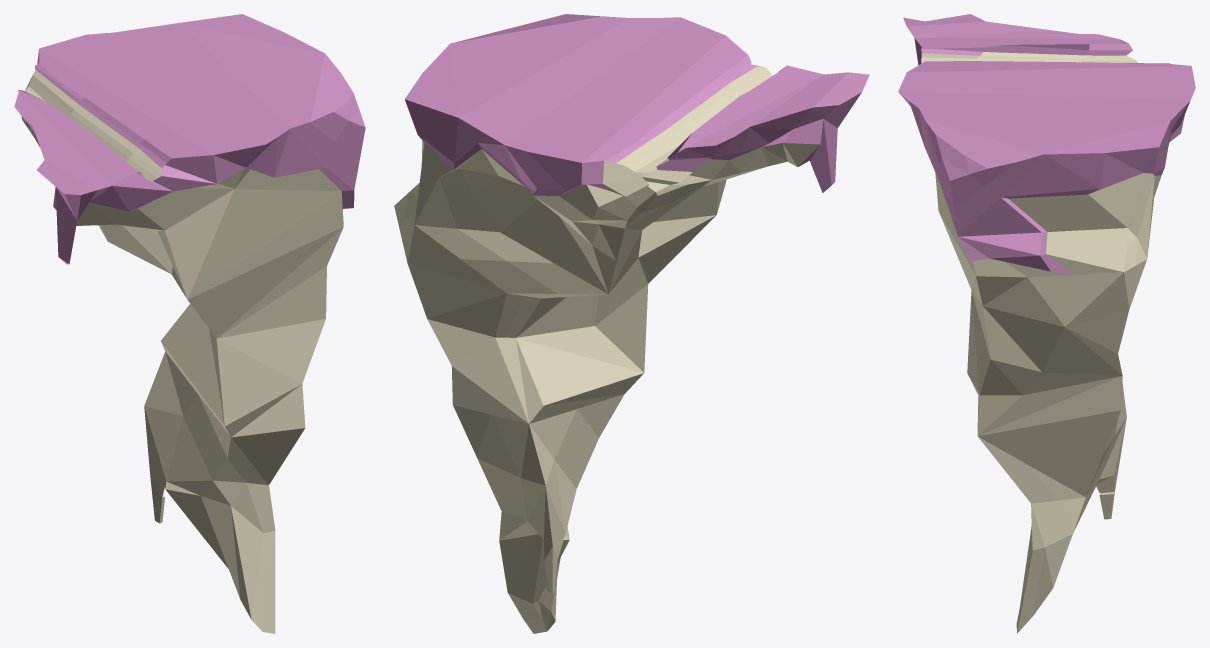
The model's file is Flottante_1.fbx.
3 views of the same model, side by side, from view 1: azimuth 30°, elevation 25°; view 2: azimuth 150°, elevation 25°; view 3: azimuth 270°, elevation 25° (orthographic). The views are drawn at different scales.
Parts seen in each view (by area): view 1: Cube; view 2: Cube; view 3: Cube.
Part boxes in pixels (bbox=[...]): Cube: bbox=[14, 14, 365, 633]; Cube: bbox=[394, 14, 869, 633]; Cube: bbox=[898, 14, 1195, 633].
Size of the model in its own units: 685 by 1076 by 570.
